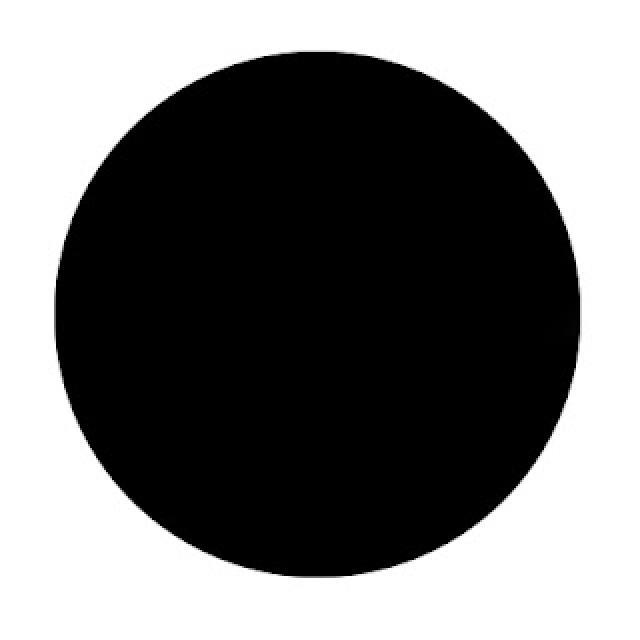Circle: (56, 55, 578, 574)
